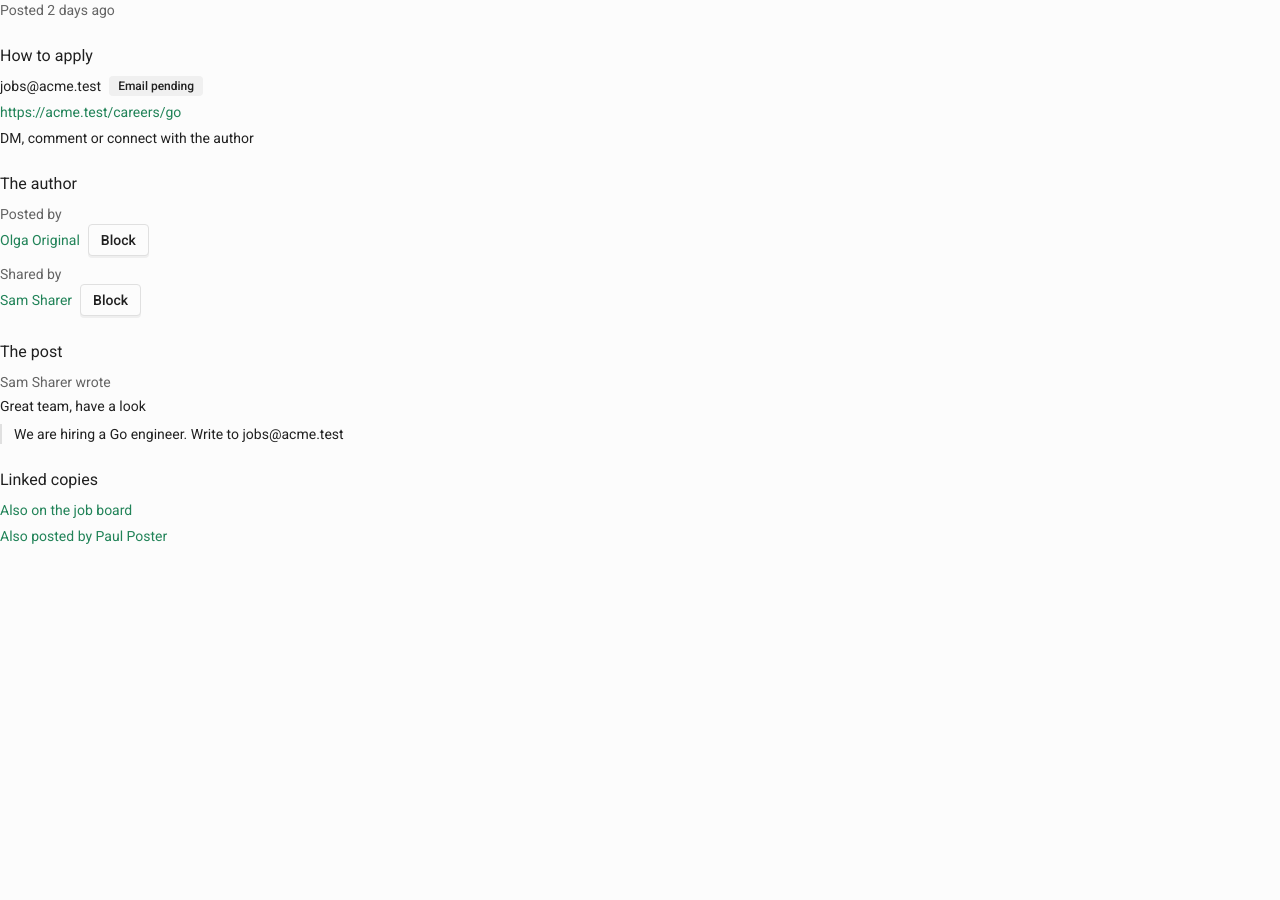
Test: Block author › confirms, then blocks the sharer by key and toasts
Later steps or results of the test are not shown.
Step 1. Click the button with aria-label "Block Sam Sharer" → (111, 300), box [80, 284, 141, 316]
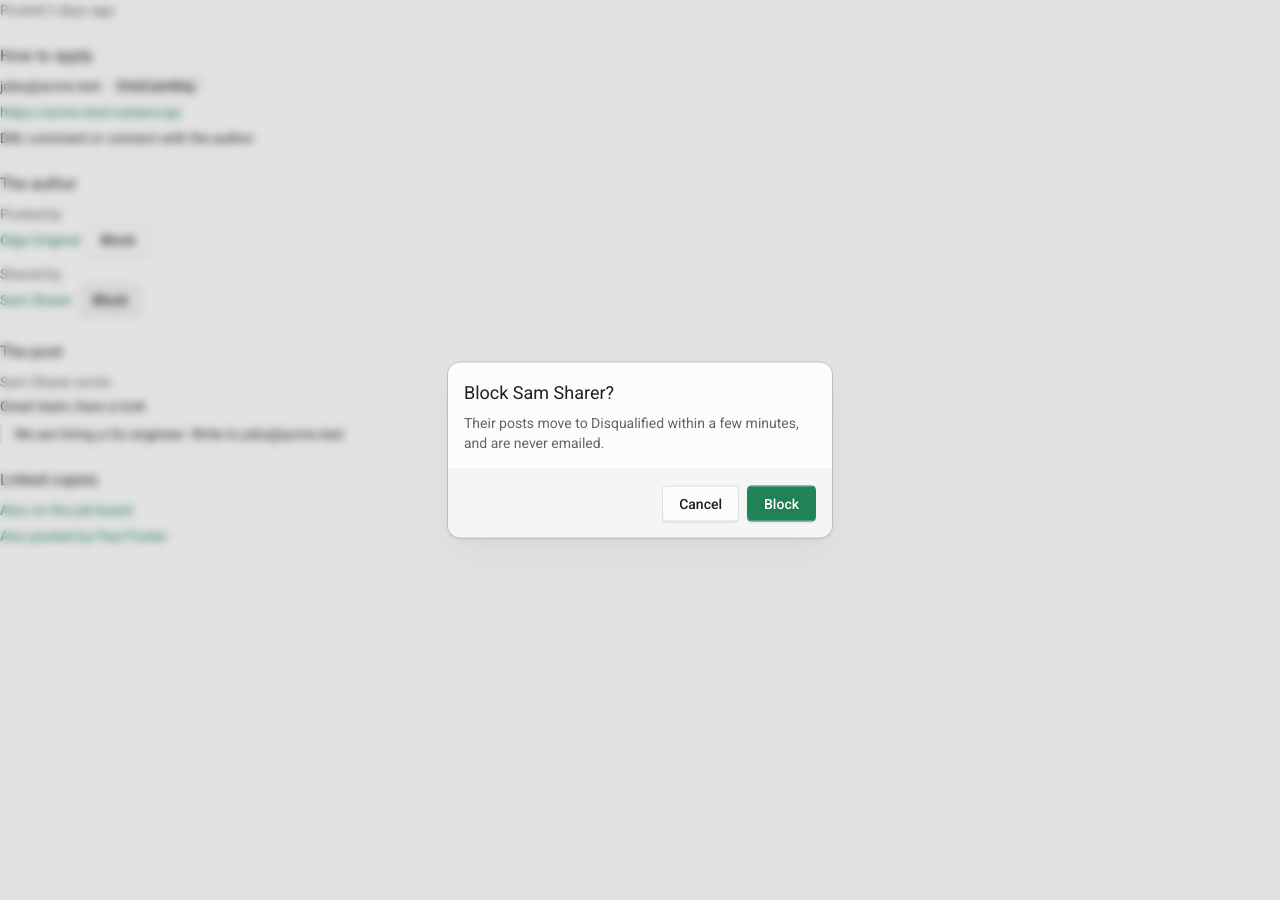
Check: the heading "Block Sam Sharer?" is shown, box [464, 378, 614, 406]
Check: the text "Their posts move to Disqualified within a few minutes, and are never emailed." is shown, box [464, 412, 816, 452]
